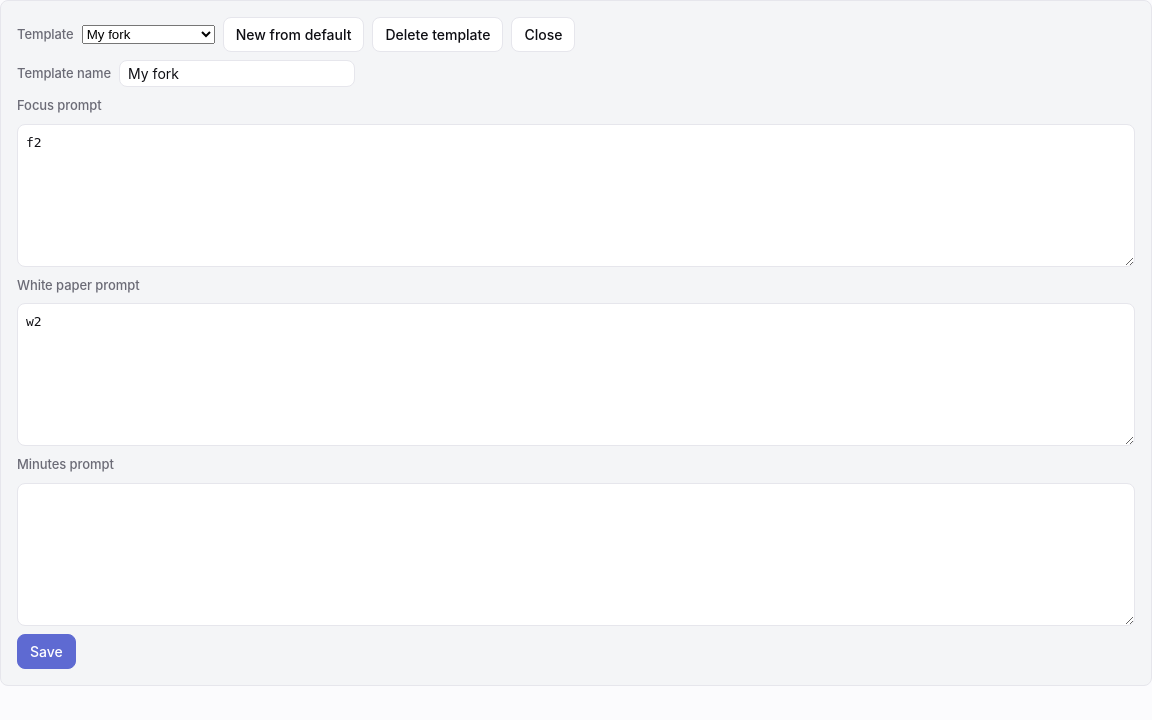
Test: PromptTemplateEditor — template mutation failures surface › a deleteTemplate failure raises an error toast
Click the button "Delete template".
click(438, 34)  # box [372,17,503,52]
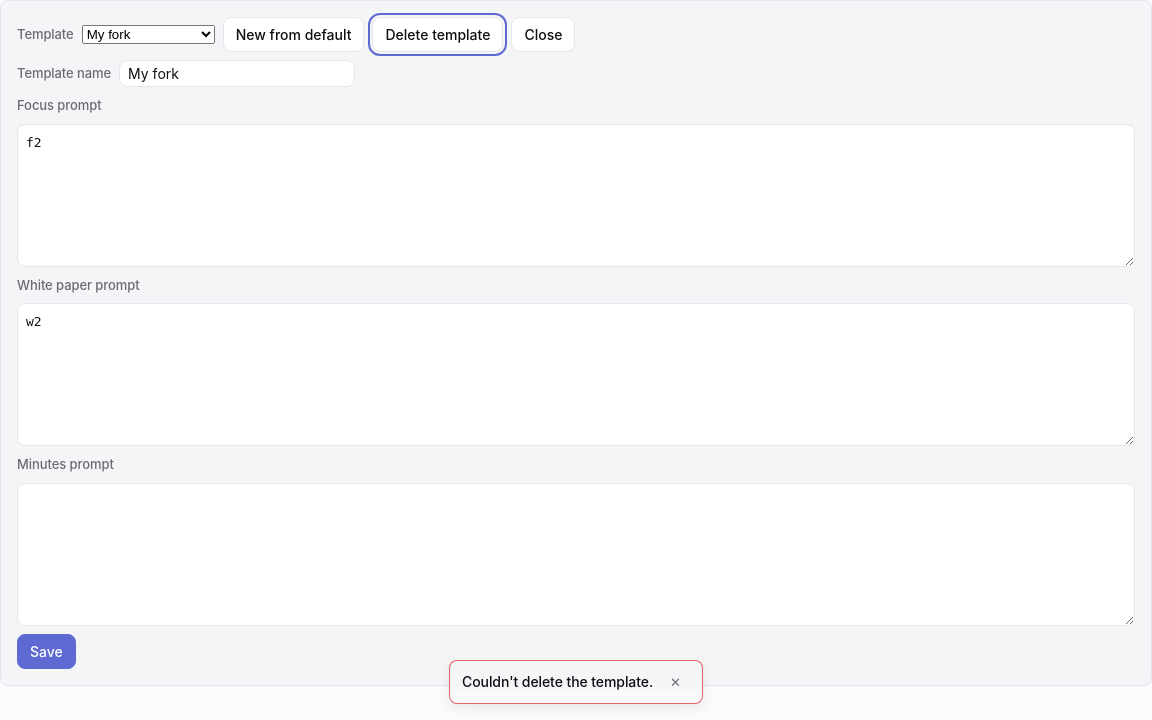
Check: the text "Couldn't delete the template." is shown, box [462,671,653,693]
